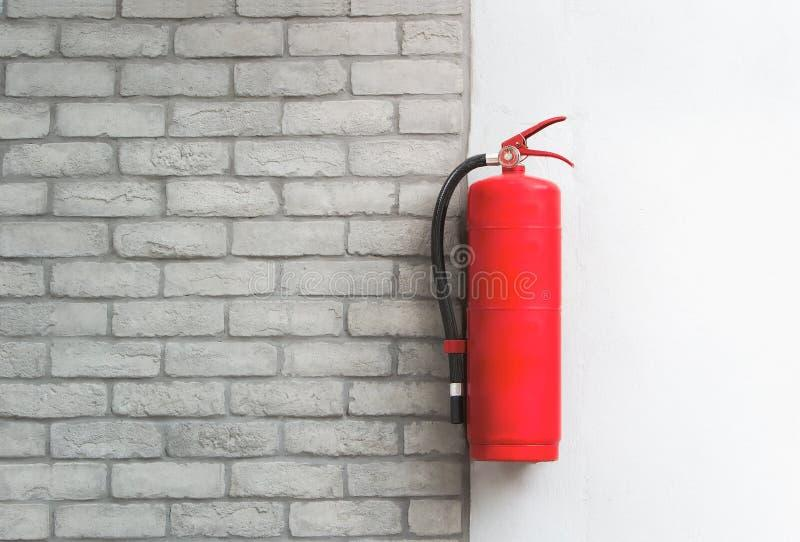wall-mounted: (410, 114, 614, 471)
